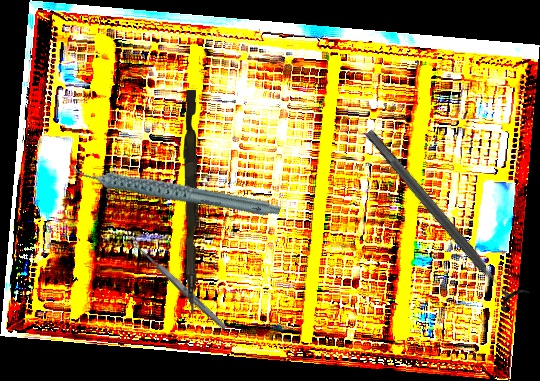Fixation Ring: (354, 120, 532, 316)
Handpiece: (69, 121, 283, 256)
Pusher: (180, 89, 204, 315)
Surgical Spoon: (127, 236, 229, 332)
